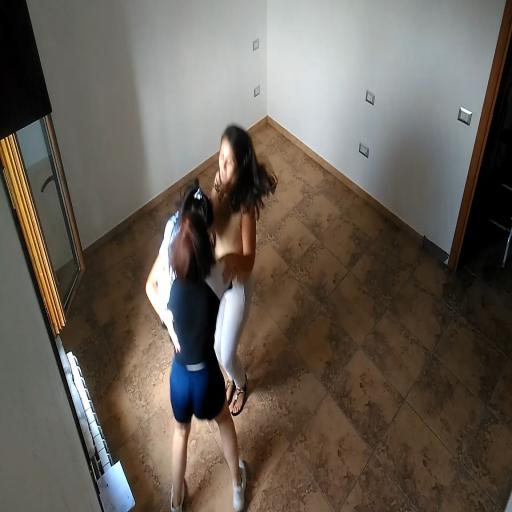nao-violencia: (138, 111, 288, 512)
